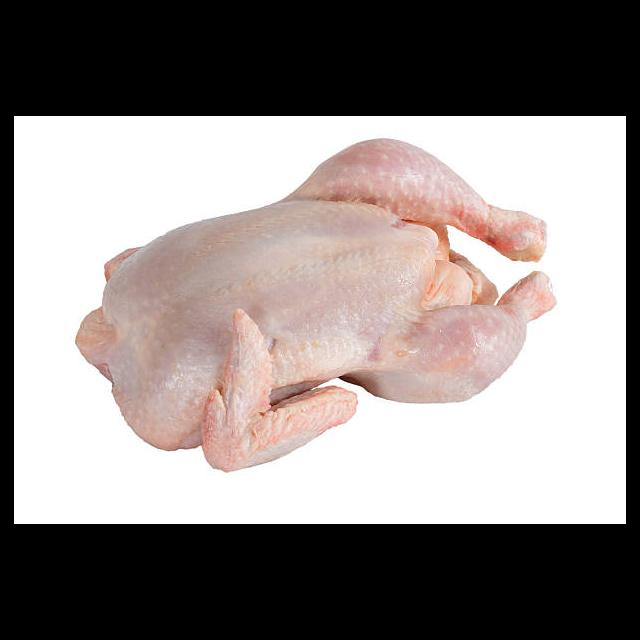chicken: (75, 137, 558, 474)
